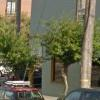Tree: (42, 15, 80, 83)
